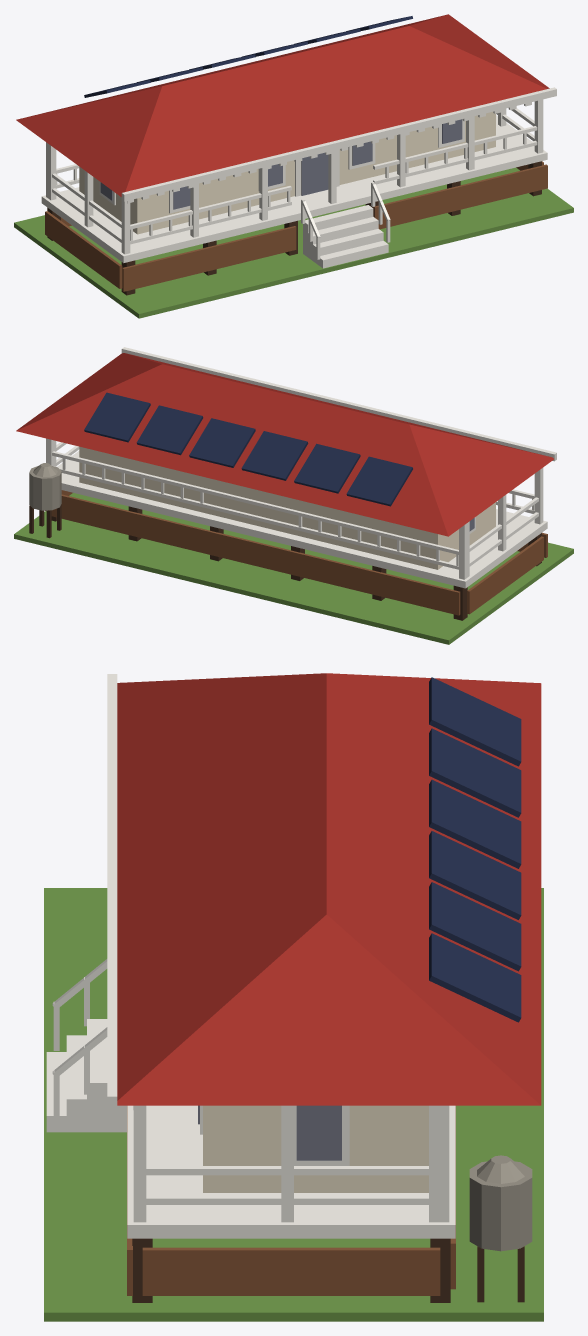
The model's file is house-2x1-1f-queenslander-a-solar.glb.
3 views of the same model, one above another, from view 1: azimuth 30°, elevation 25°; view 2: azimuth 150°, elevation 25°; view 3: azimuth 270°, elevation 25° (orthographic). The views are drawn at different scales.
Parts seen in each view (by area): view 1: house-2x1-1f-queenslander-a-solar; view 2: house-2x1-1f-queenslander-a-solar; view 3: house-2x1-1f-queenslander-a-solar.
Part boxes in pixels (x1,y1,x2,y2): house-2x1-1f-queenslander-a-solar: (14, 14, 573, 318); house-2x1-1f-queenslander-a-solar: (14, 347, 573, 644); house-2x1-1f-queenslander-a-solar: (44, 673, 543, 1321).
Bounding box in the file's own units: 1.99 × 0.69 × 0.99.
Materials: 1 (1 with a texture image).
